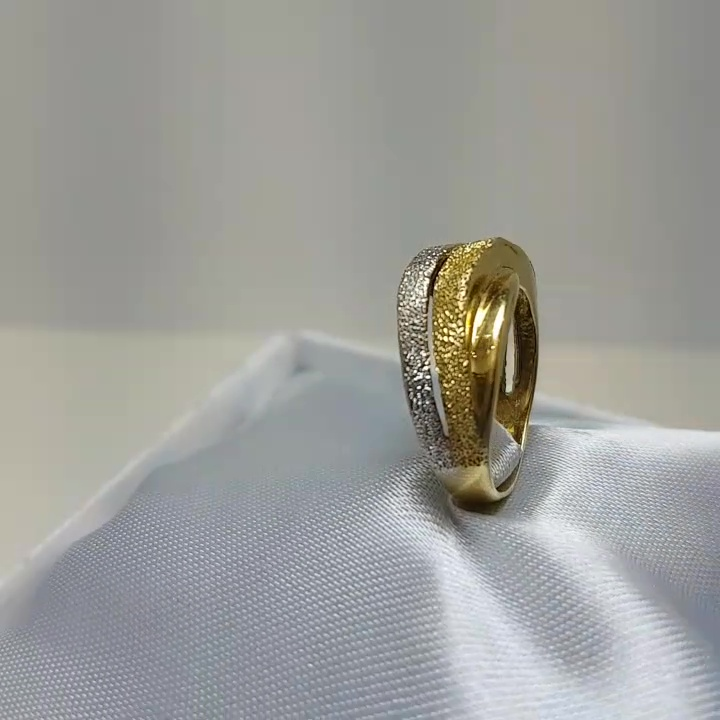Ring 5: (349, 212, 619, 534)
